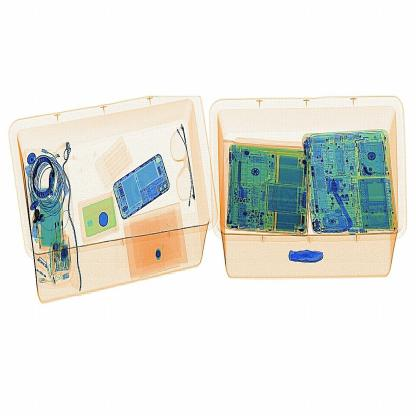knife: (287, 247, 327, 268)
